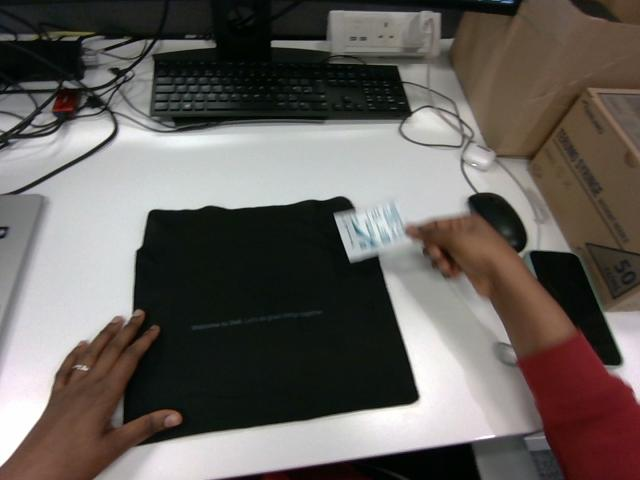gauze: (335, 201, 407, 262)
